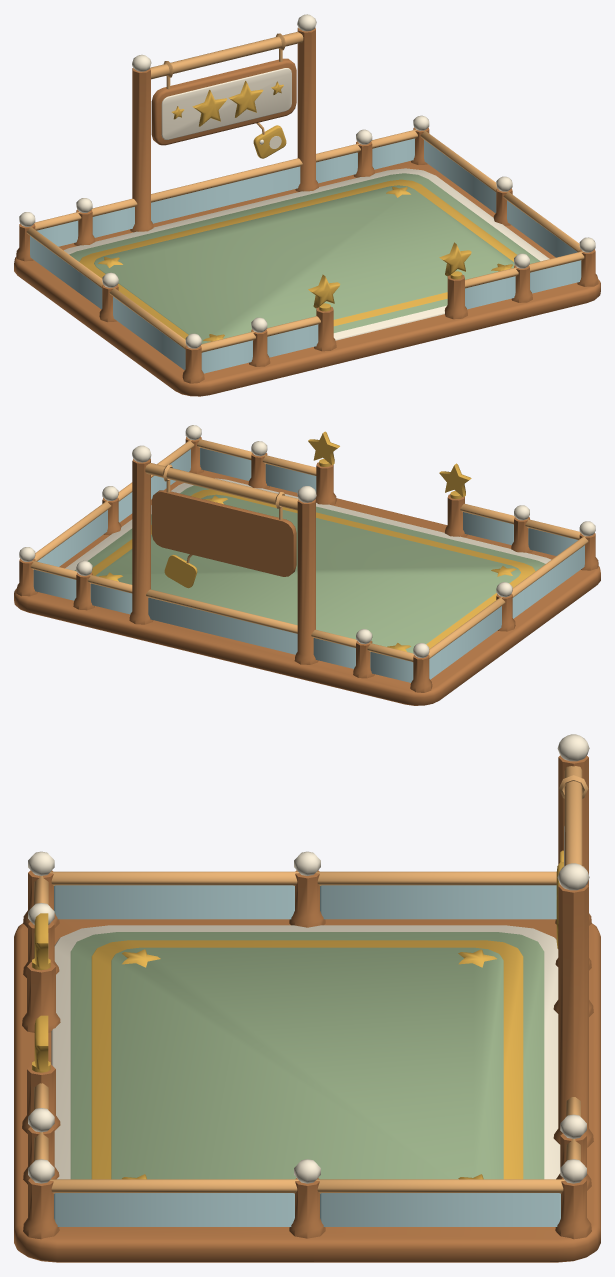
Rendered from ShopShowcaseL2.fbx.
3 views of the same model, one above another, from view 1: azimuth 30°, elevation 25°; view 2: azimuth 150°, elevation 25°; view 3: azimuth 270°, elevation 25° (orthographic). The views are drawn at different scales.
Visible parts, largest first — view 1: ShopShowcaseL2; view 2: ShopShowcaseL2; view 3: ShopShowcaseL2.
Boxes of the visible parts, x1,y1,x2,y2 form: ShopShowcaseL2: (14,14,600,396); ShopShowcaseL2: (14,425,600,705); ShopShowcaseL2: (14,734,600,1262).
Size of the model in its own units: 4 by 1.68 by 3.
